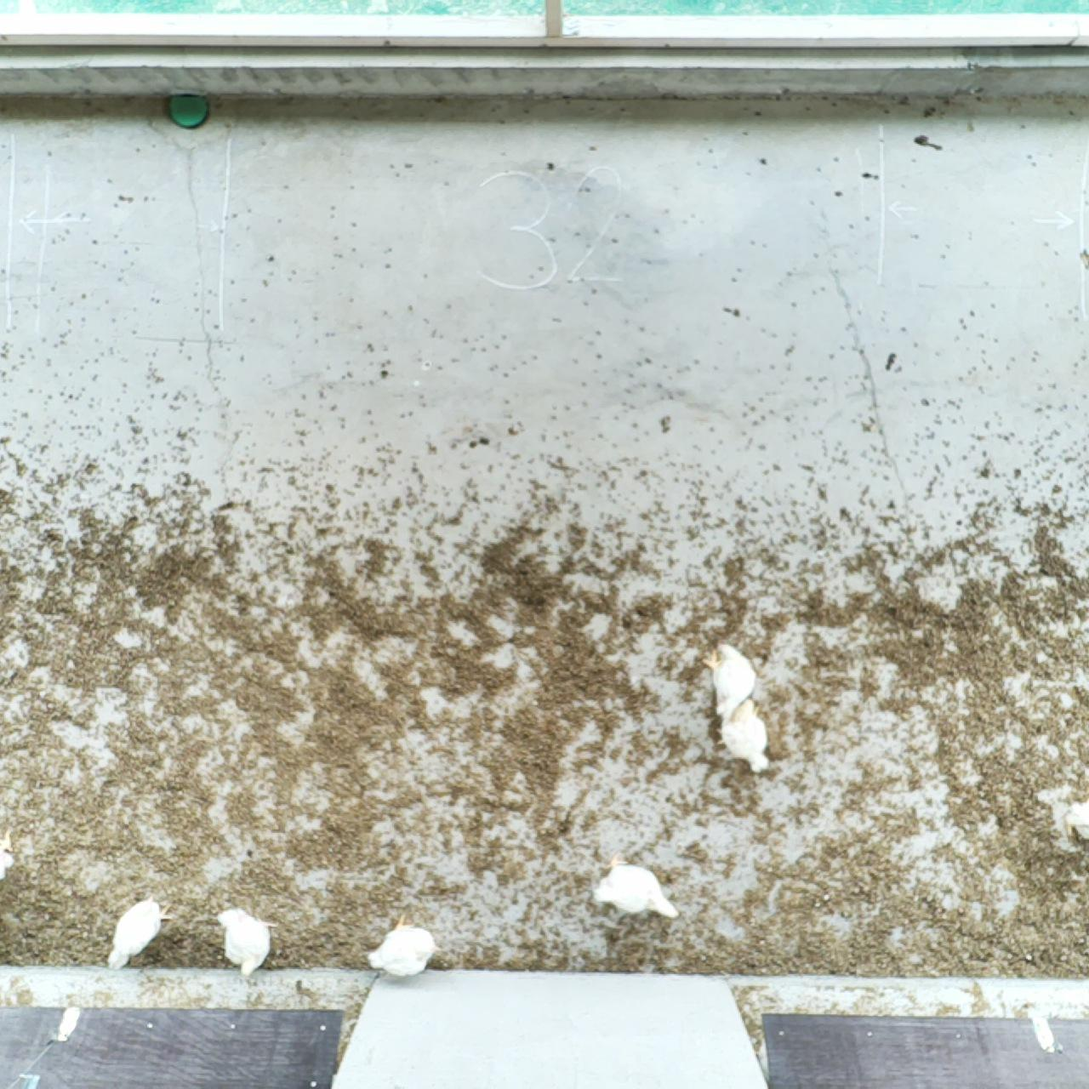chicken: (593, 853, 680, 922), (365, 912, 442, 980), (106, 898, 173, 974), (712, 690, 771, 776), (698, 639, 759, 718), (215, 903, 279, 975), (0, 826, 17, 876)
